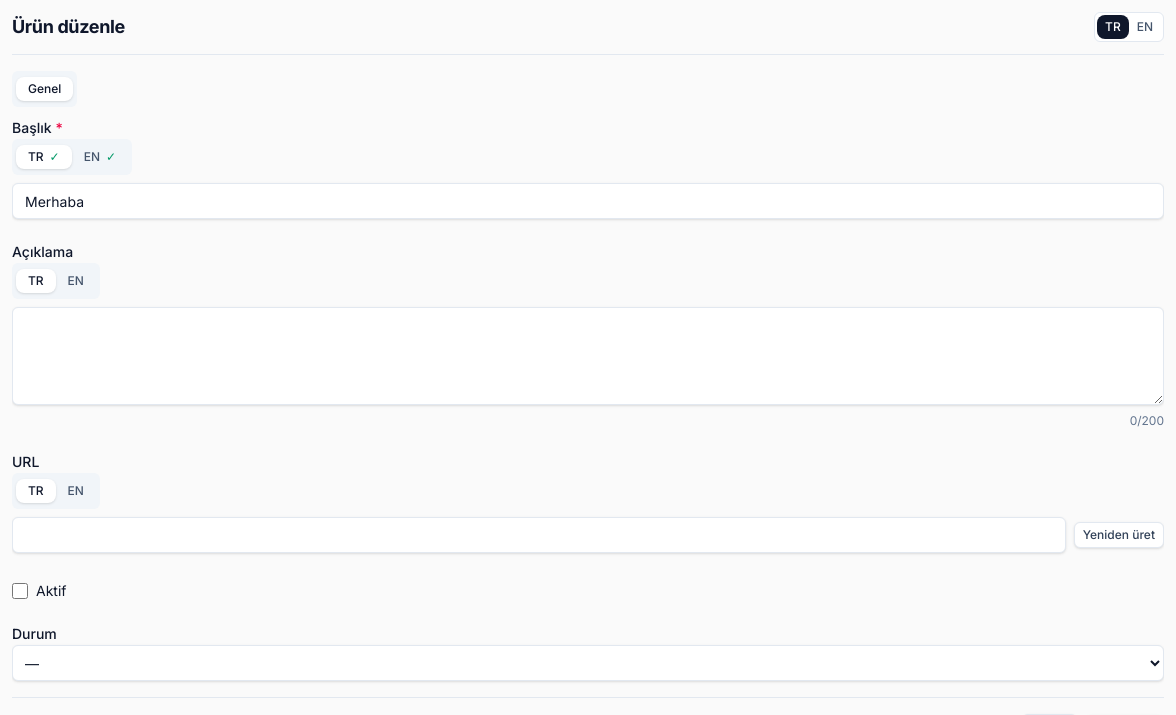
Scenario: ModuleDetail › 5. Locale switch → TR → EN
Expected: the field labelled "Başlık*" holds "Merhaba", x1=12 y1=183 x2=1164 y2=219
Click the button "en".
click(1145, 27)  # box x1=1129 y1=15 x2=1161 y2=39
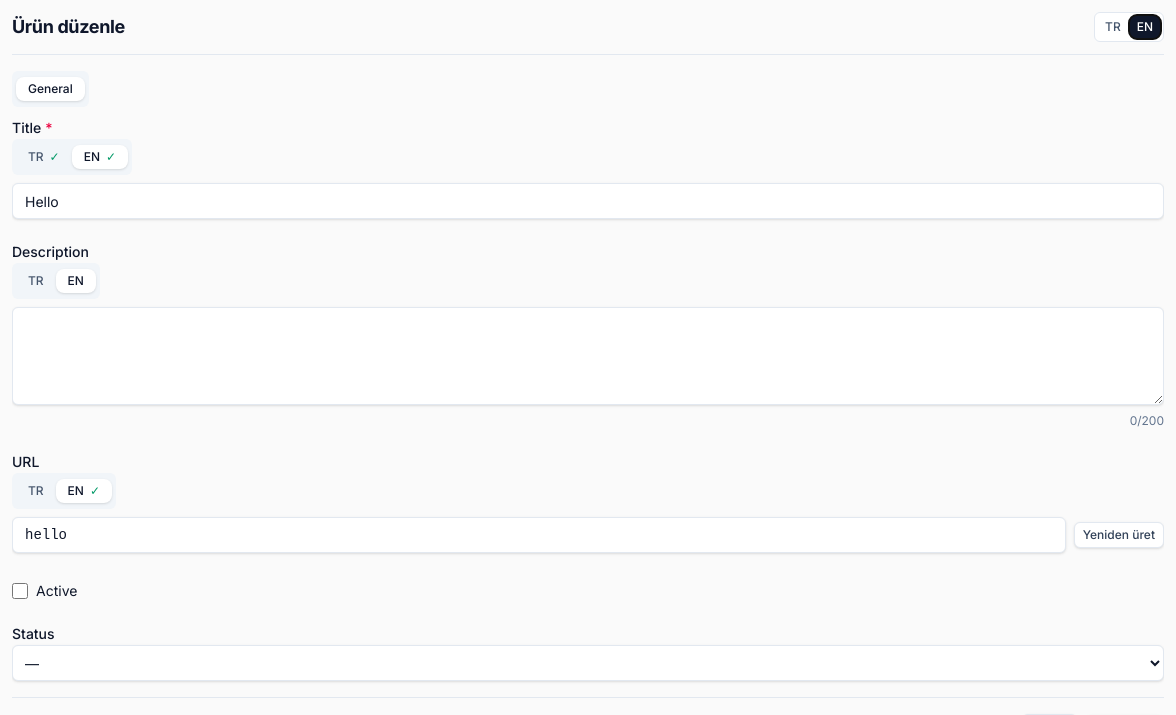
Now the field labelled "Title*" holds "Hello", box x1=12 y1=183 x2=1164 y2=219
